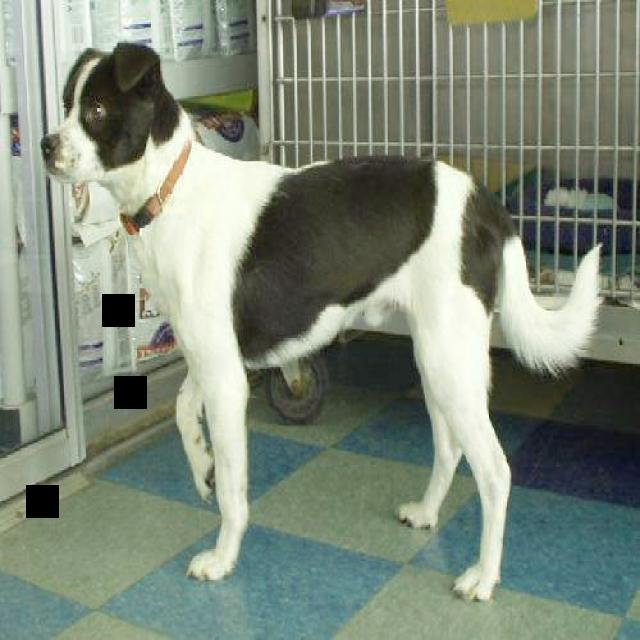adult_dog: (40, 40, 608, 607)
